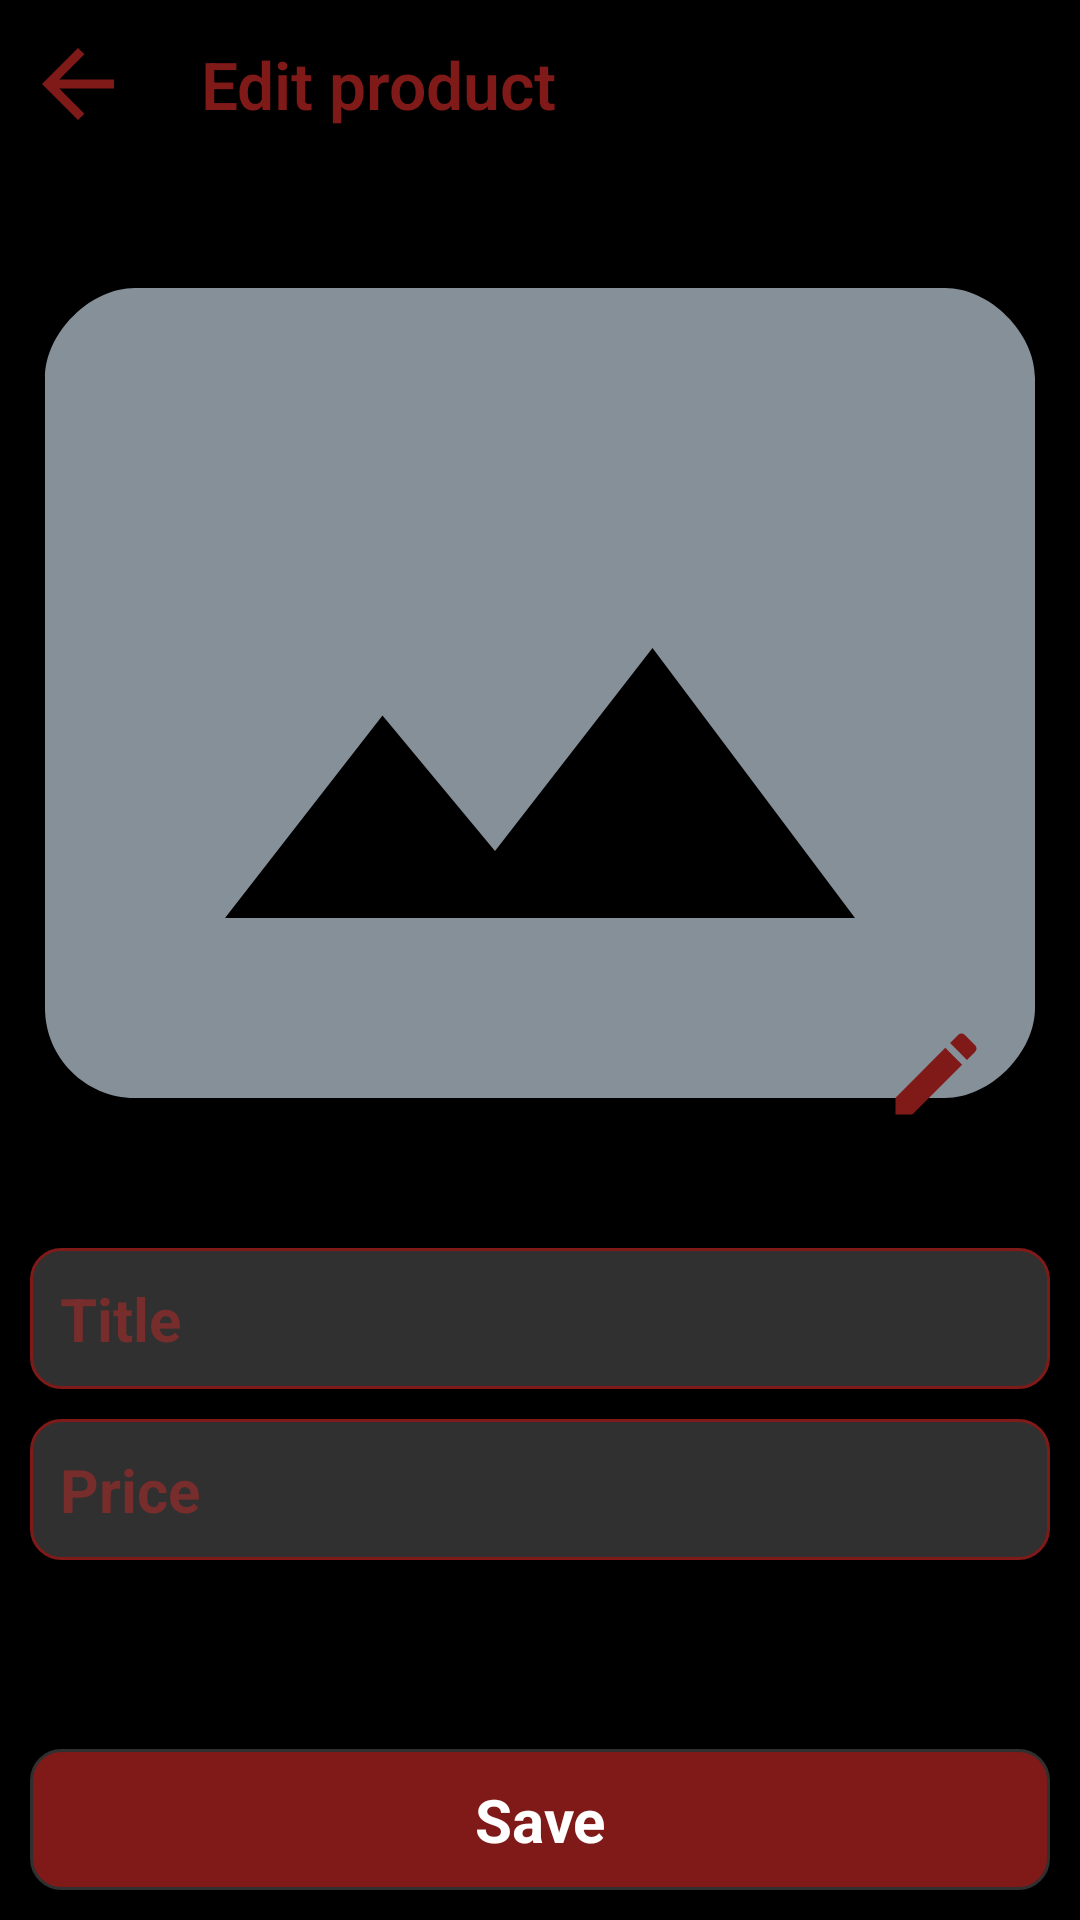

Screen size 1080px×1920px. Icon name, then its center in pixels as point (x, y):
arrow back: point (78, 84)
edit: point (936, 1074)
